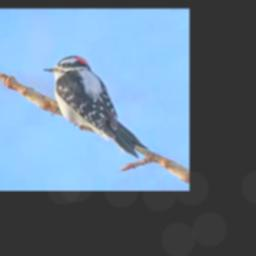Woodpecker: (43, 56, 148, 158)
